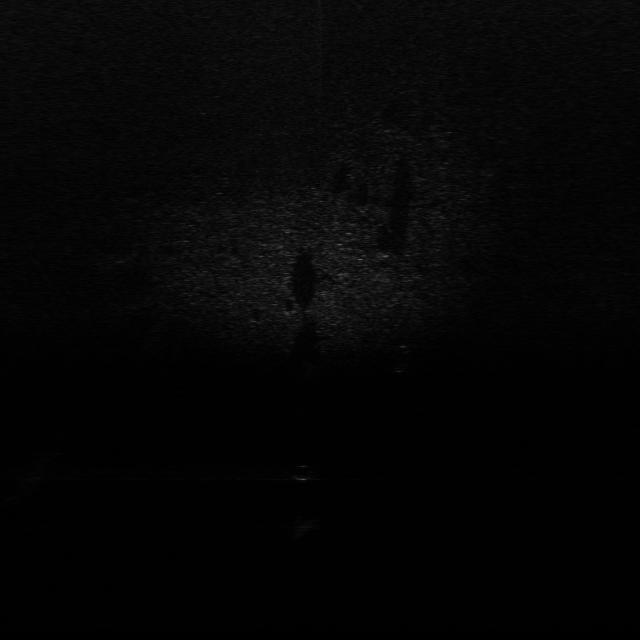ball: (288, 461, 323, 482)
square cage: (277, 516, 321, 536)
tyre: (388, 344, 416, 375)
